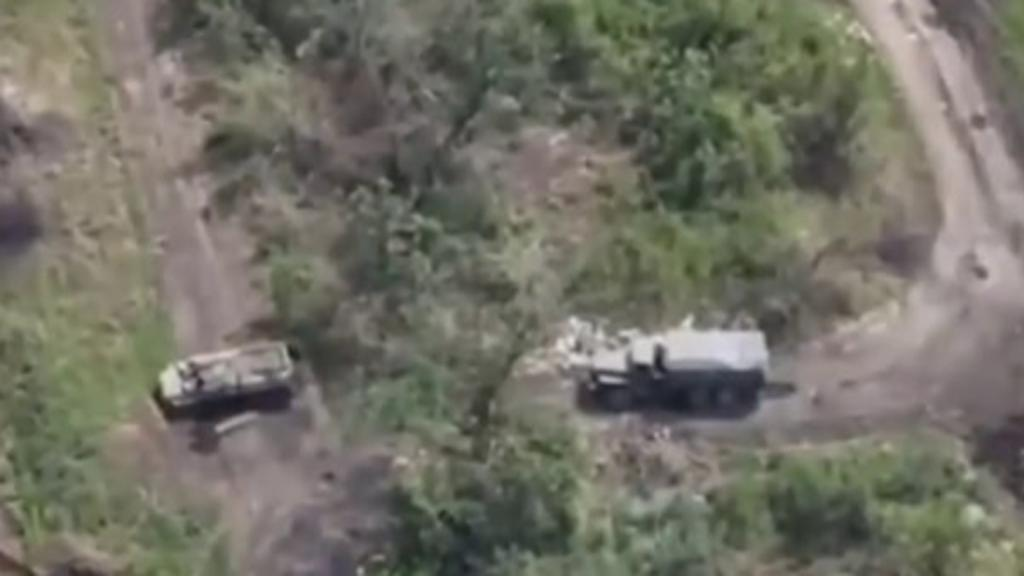APC-IFV: (152, 336, 294, 409)
TRUCK: (582, 326, 770, 409)
